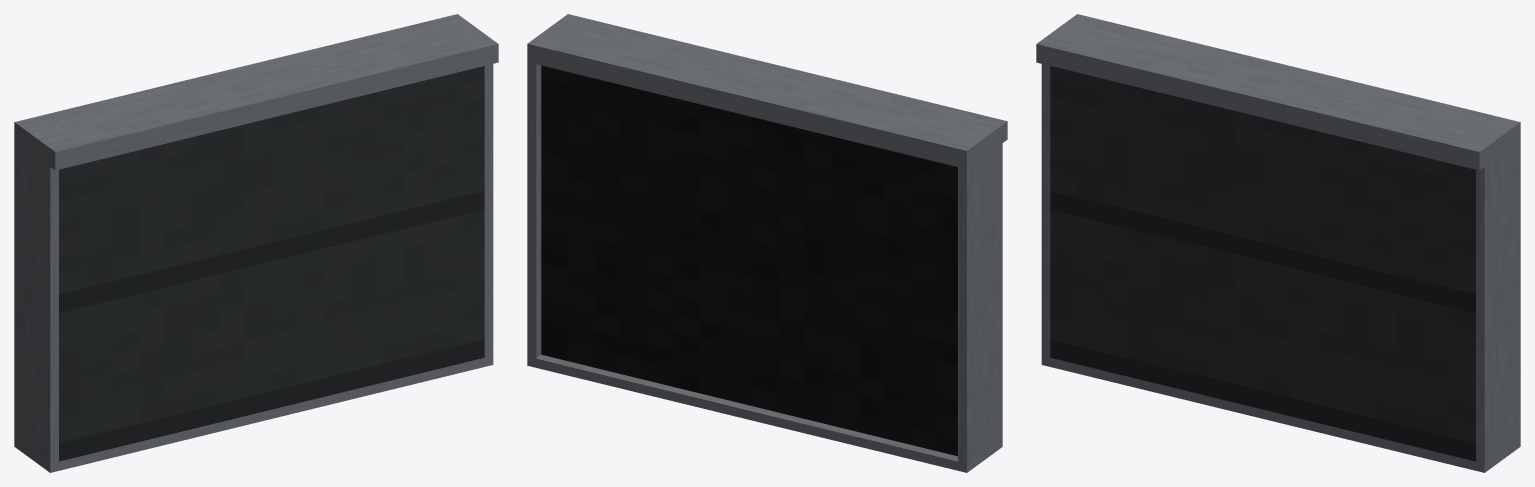
Rendered from count_board.obj.
The picture shows the model from 3 angles, left to right: view 1: azimuth 30°, elevation 25°; view 2: azimuth 150°, elevation 25°; view 3: azimuth 330°, elevation 25°; orthographic projection.
Visible parts, largest first — view 1: count_board; view 2: count_board; view 3: count_board.
Boxes of the visible parts, x1=… form: count_board: x1=14, y1=14, x2=498, y2=472; count_board: x1=527, y1=14, x2=1007, y2=472; count_board: x1=1036, y1=14, x2=1520, y2=472.
Bounding box in the file's own units: 3.12 × 2.19 × 0.5.
